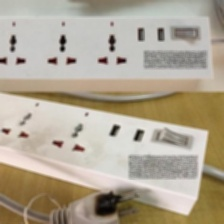three_eye_plug: (0, 91, 213, 219), (0, 11, 218, 93)
